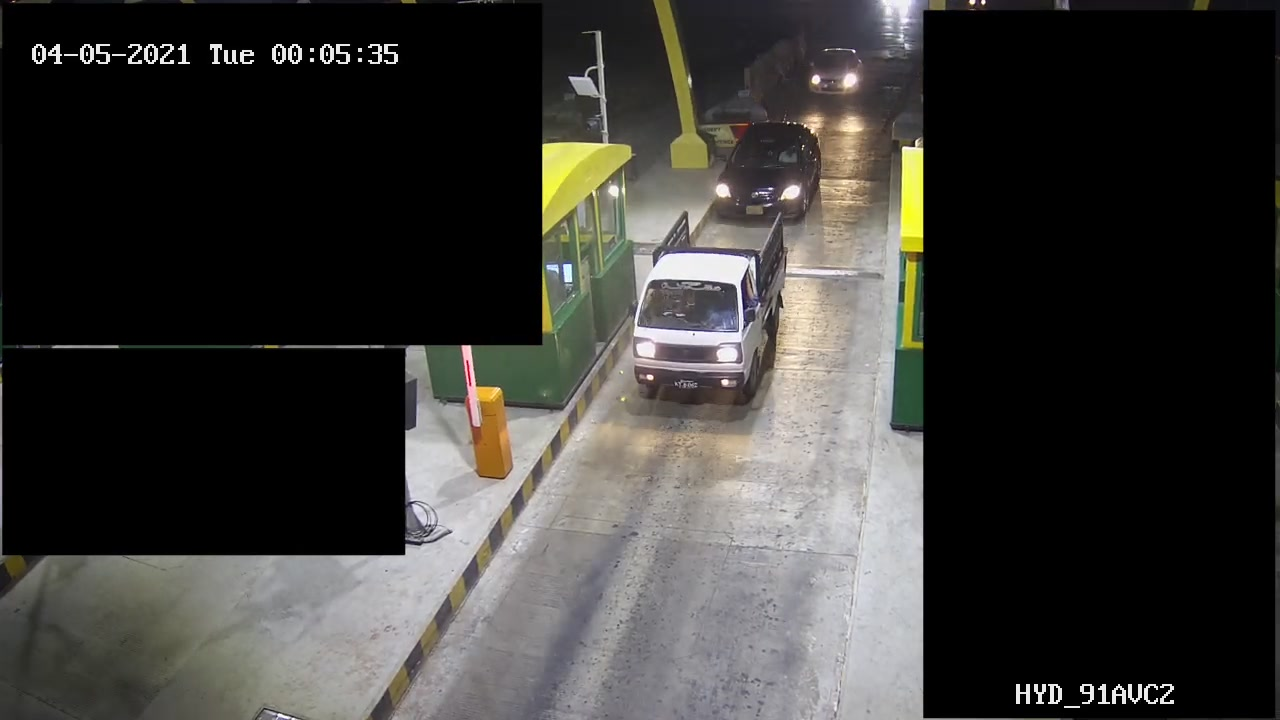F1: (629, 209, 800, 405), (699, 119, 832, 219)
